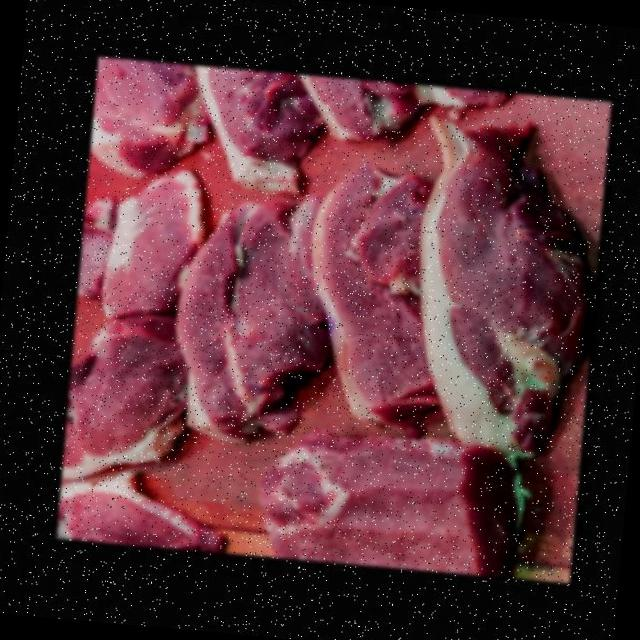potato: (434, 132, 594, 442), (252, 423, 534, 578), (162, 187, 320, 453), (298, 159, 440, 418), (94, 161, 224, 335), (302, 75, 528, 169), (59, 310, 178, 480), (84, 54, 208, 210), (186, 65, 320, 196), (56, 467, 238, 549)
